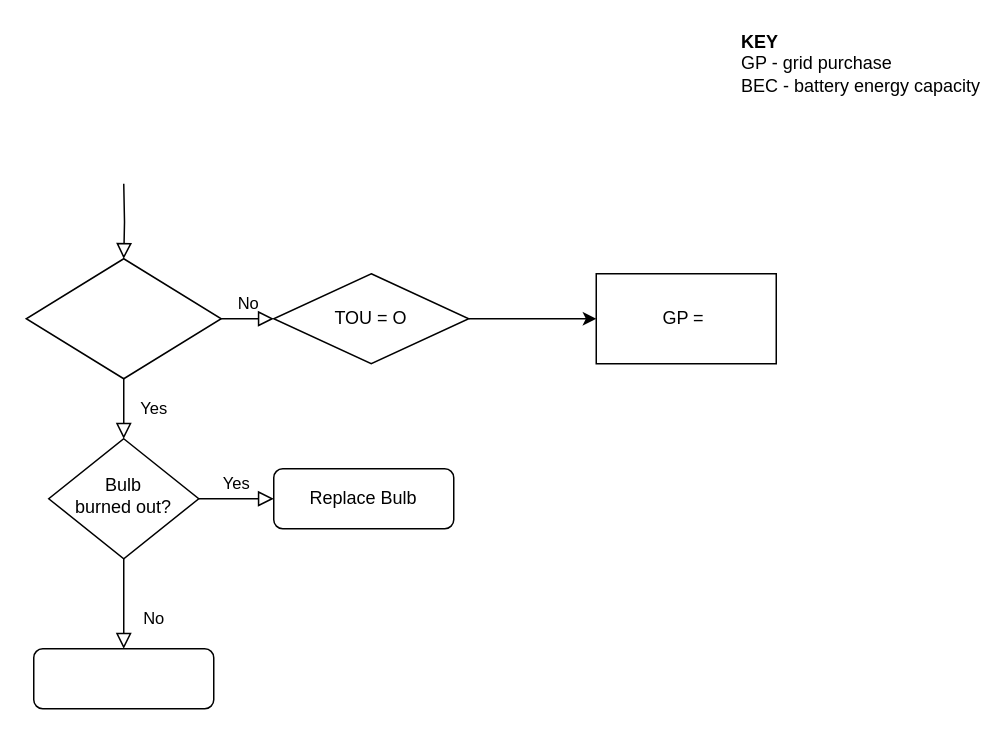
The diagram is 1007 pixels wide and 735 high, and some of its shapes have lost their labels. Here are the shapes that lost their labels. From the top down, the box of each, then its label:
(25, 257, 221, 379): Load after PV > 0
(32, 647, 214, 709): Repair Lamp
